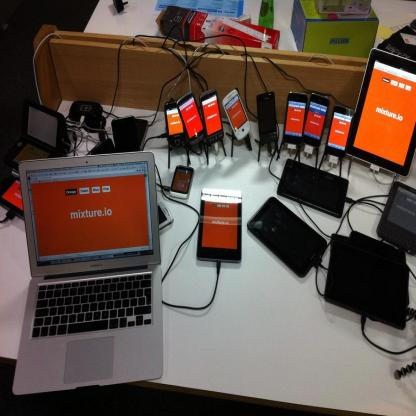board: (5, 146, 166, 404)
